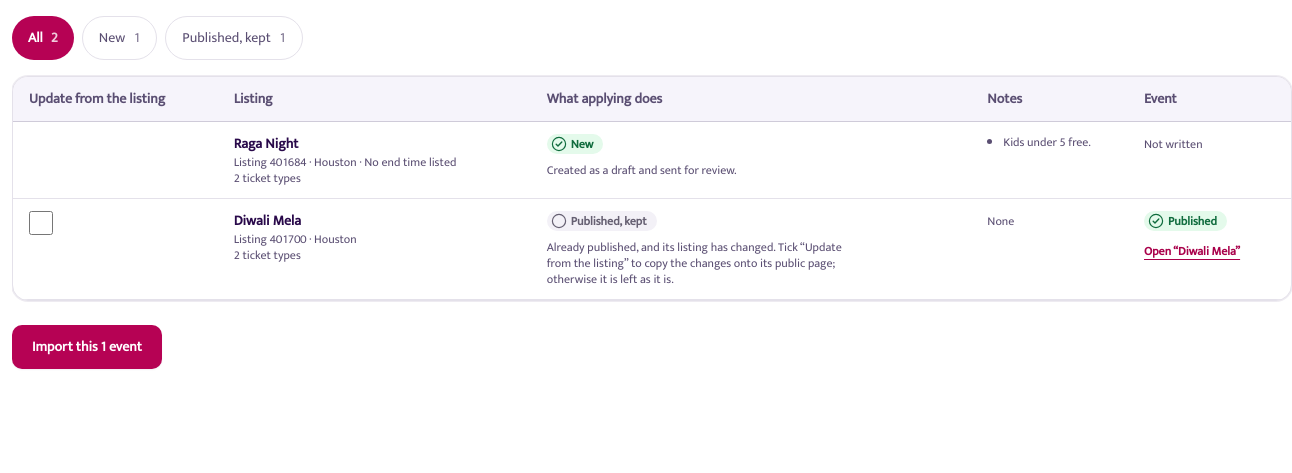
it: a new plan › says a changed plan was refused, in the API’s words, and reads the page again
Click the button "Import this 1 event" at coordinates (87, 347), box [12,325,162,369]
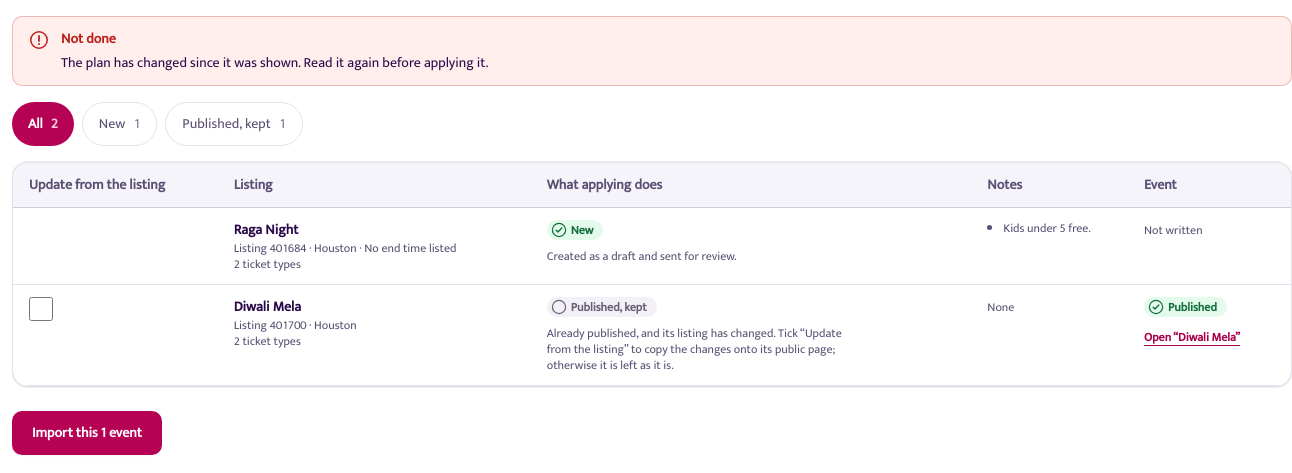
Expected: the text "The plan has changed since it was shown. Read it again before applying it." is shown, [61,51,488,74]
